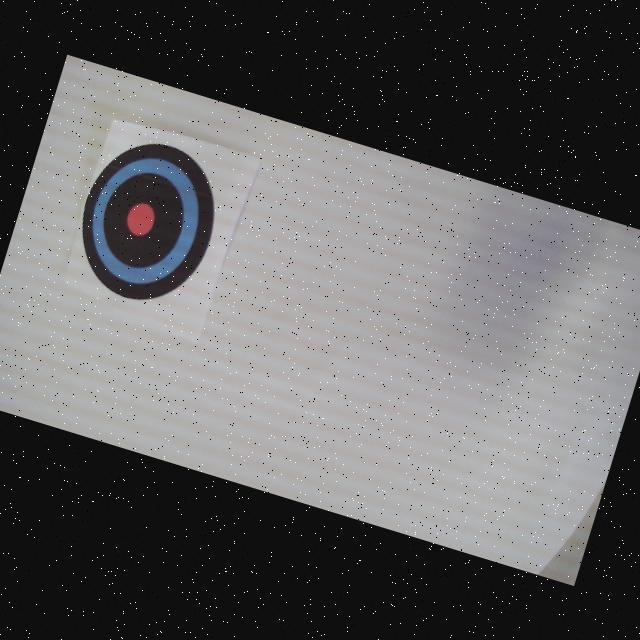COGNITIVE: (62, 126, 234, 316)
